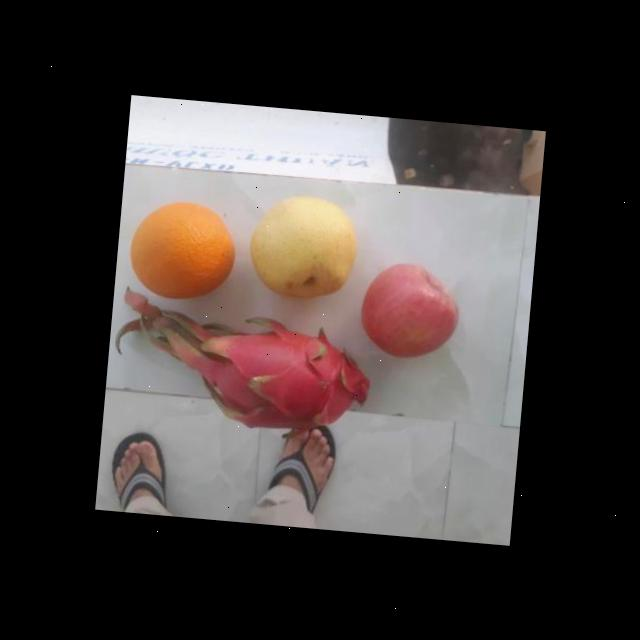apple: (357, 258, 468, 360)
orange: (121, 194, 244, 305)
pear: (245, 192, 365, 299)
pitaya: (182, 312, 376, 439)
